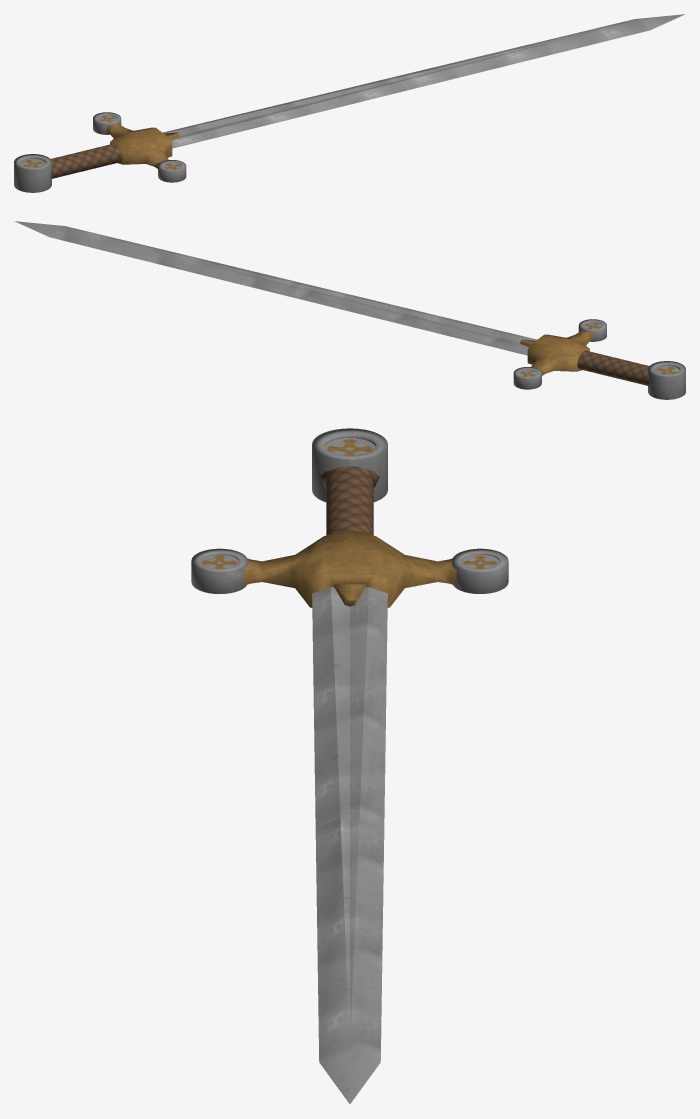
The model's file is w_long_sword.glb.
The picture shows the model from 3 angles, top to bottom: view 1: azimuth 30°, elevation 25°; view 2: azimuth 150°, elevation 25°; view 3: azimuth 270°, elevation 25°; orthographic projection. The views are drawn at different scales.
Parts seen in each view (by area): view 1: defaultMaterial; view 2: defaultMaterial; view 3: defaultMaterial.
Part boxes in pixels (box(x1,y1,x2,y2)): defaultMaterial: box(14, 14, 685, 192); defaultMaterial: box(14, 221, 685, 399); defaultMaterial: box(191, 428, 508, 1103).
Bounding box in the file's own units: 2 × 0.0651 × 0.4101.
Materials: 1 (1 with a texture image).
